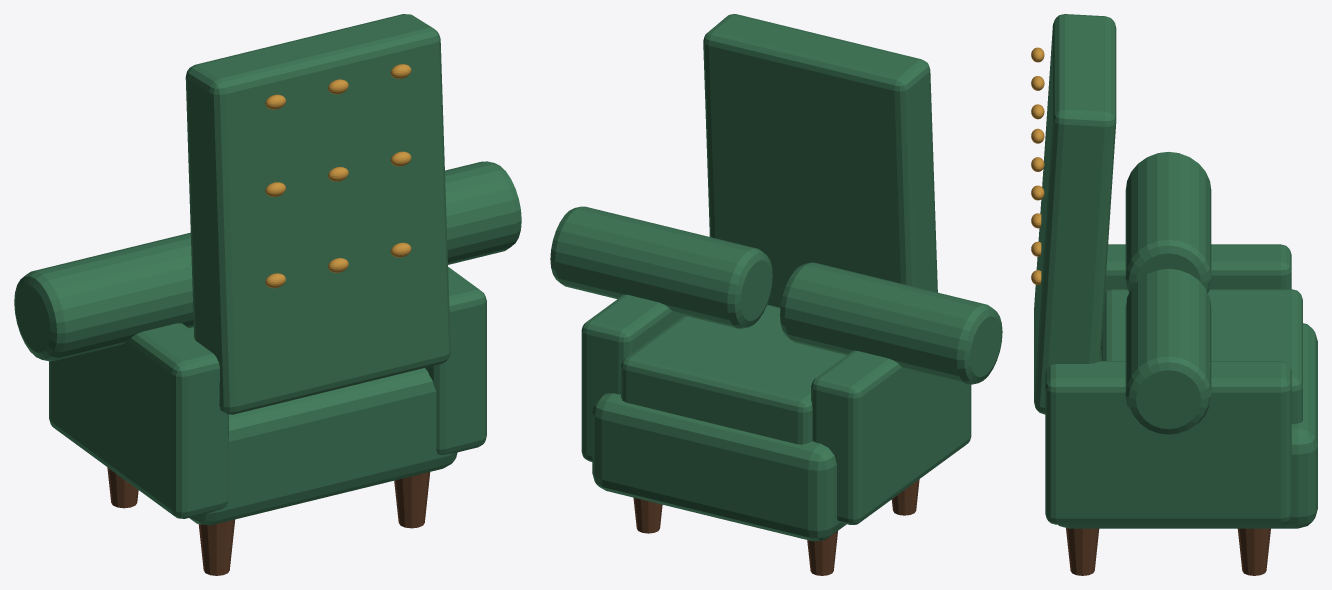
File: classic-armchair-v1.glb
3 renders of one model, left to right at view 1: azimuth 30°, elevation 25°; view 2: azimuth 150°, elevation 25°; view 3: azimuth 270°, elevation 25°, orthographic. The views are drawn at different scales.
Visible parts, largest first — view 1: high-back, arm-base.001, seat-base, rolled-arm, arm-base, rolled-arm.001, carved-foot.001, carved-foot.003, carved-foot.002; view 2: high-back, seat-base, seat-cushion, arm-base.001, rolled-arm.001, rolled-arm, arm-base, carved-foot.002, carved-foot, carved-foot.001; view 3: arm-base, high-back, rolled-arm.001, rolled-arm, seat-cushion, seat-base, arm-base.001, carved-foot, carved-foot.003.
Boxes of the visible parts, bbox=[...] form: high-back: bbox=[185, 14, 450, 414]; arm-base.001: bbox=[49, 323, 228, 518]; seat-base: bbox=[189, 368, 457, 525]; rolled-arm: bbox=[14, 232, 193, 361]; arm-base: bbox=[425, 267, 486, 454]; rolled-arm.001: bbox=[445, 161, 521, 264]; carved-foot.001: bbox=[198, 519, 235, 575]; carved-foot.003: bbox=[394, 472, 430, 528]; carved-foot.002: bbox=[107, 467, 138, 508]; high-back: bbox=[703, 14, 937, 307]; seat-base: bbox=[592, 393, 846, 541]; seat-cushion: bbox=[621, 304, 846, 444]; arm-base.001: bbox=[811, 350, 971, 524]; rolled-arm.001: bbox=[550, 206, 772, 328]; rolled-arm: bbox=[780, 262, 1002, 384]; arm-base: bbox=[581, 294, 683, 461]; carved-foot.002: bbox=[807, 531, 837, 575]; carved-foot: bbox=[633, 497, 662, 533]; carved-foot.001: bbox=[891, 479, 919, 515]; arm-base: bbox=[1045, 361, 1291, 524]; high-back: bbox=[1034, 14, 1116, 414]; rolled-arm.001: bbox=[1125, 268, 1211, 434]; rolled-arm: bbox=[1125, 152, 1211, 292]; seat-cushion: bbox=[1101, 289, 1302, 424]; seat-base: bbox=[1058, 323, 1317, 528]; arm-base.001: bbox=[1105, 244, 1291, 291]; carved-foot: bbox=[1237, 528, 1270, 575]; carved-foot.003: bbox=[1066, 528, 1099, 575].
Bounding box in the file's own units: 1.35 × 1.37 × 0.768.
